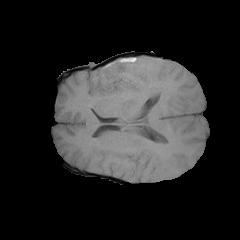glioma: (98, 58, 141, 92)
